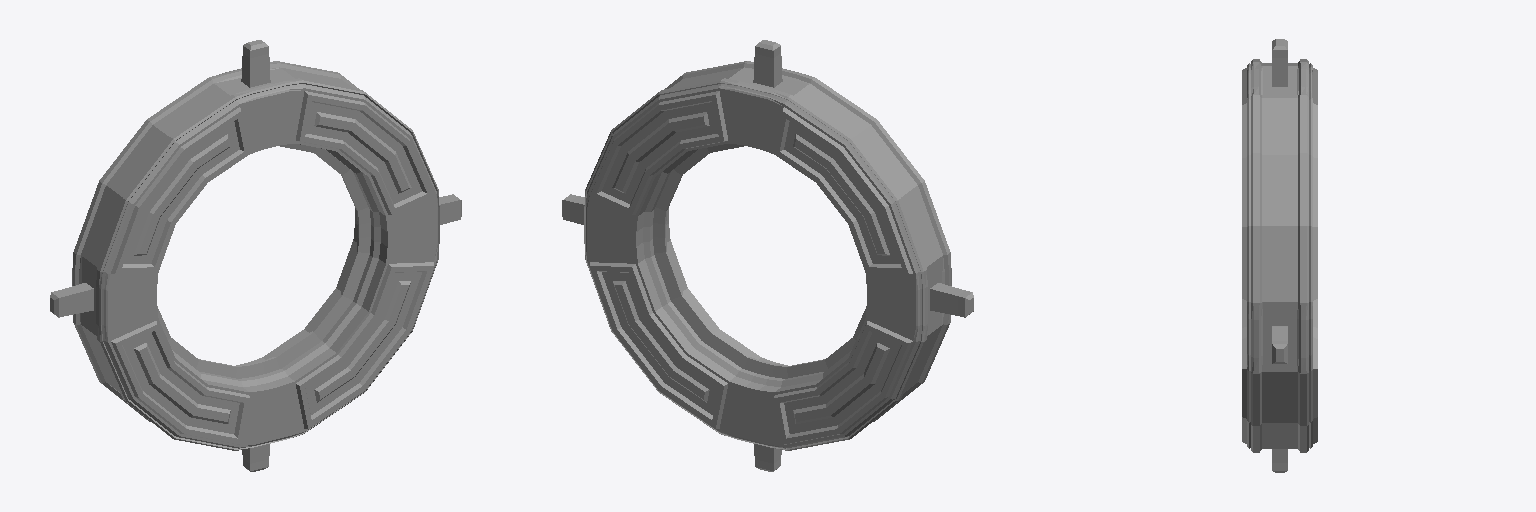
File: Ring.obj
The picture shows the model from 3 angles: view 1: azimuth 30°, elevation 25°; view 2: azimuth 150°, elevation 25°; view 3: azimuth 270°, elevation 25°; orthographic projection.
Visible parts, largest first — view 1: Cube.001_Cube.004; view 2: Cube.001_Cube.004; view 3: Cube.001_Cube.004.
Part boxes in pixels (bbox=[...]): Cube.001_Cube.004: bbox=[50, 40, 461, 471]; Cube.001_Cube.004: bbox=[562, 40, 973, 471]; Cube.001_Cube.004: bbox=[1242, 39, 1317, 472].
Bounding box in the file's own units: 3.05 × 3.05 × 0.4877.